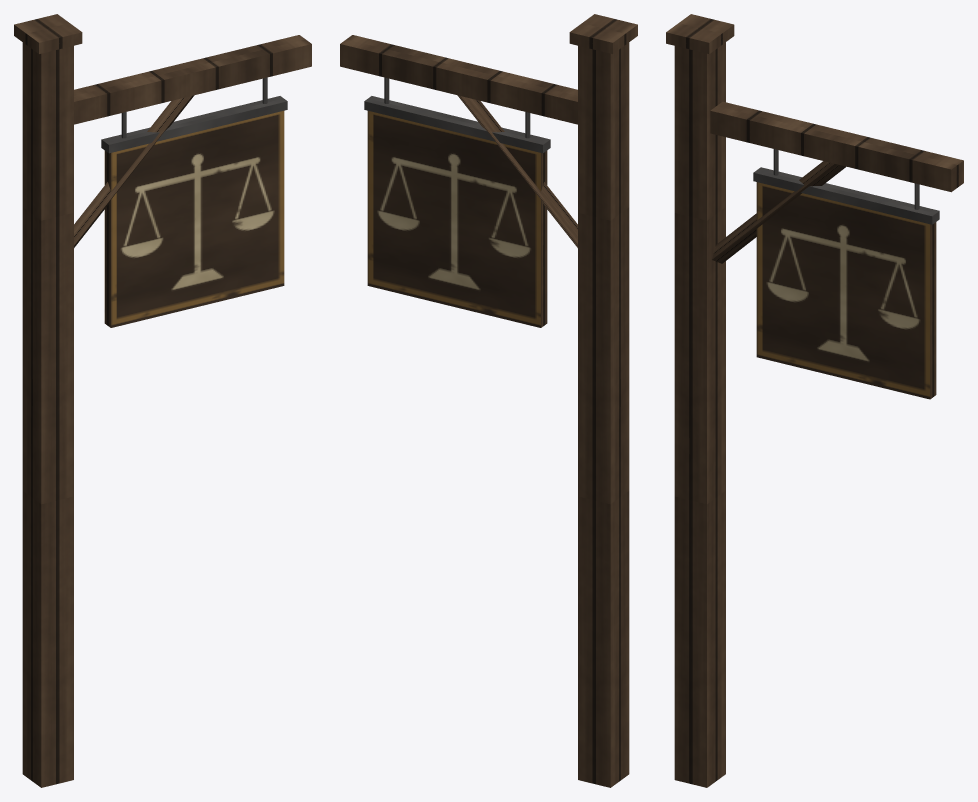
File: Sign_Service_marche.gltf
3 renders of one model, left to right at view 1: azimuth 30°, elevation 25°; view 2: azimuth 150°, elevation 25°; view 3: azimuth 330°, elevation 25°, orthographic.
Parts seen in each view (by area): view 1: Sign_Service_marche; view 2: Sign_Service_marche; view 3: Sign_Service_marche.
Boxes of the visible parts, x1,y1,x2,y2 form: Sign_Service_marche: (14, 14, 311, 787); Sign_Service_marche: (340, 14, 637, 787); Sign_Service_marche: (666, 14, 963, 787).
Size of the model in its own units: 1.03 by 2.64 by 0.16.
Materials: 3 (3 with a texture image).
